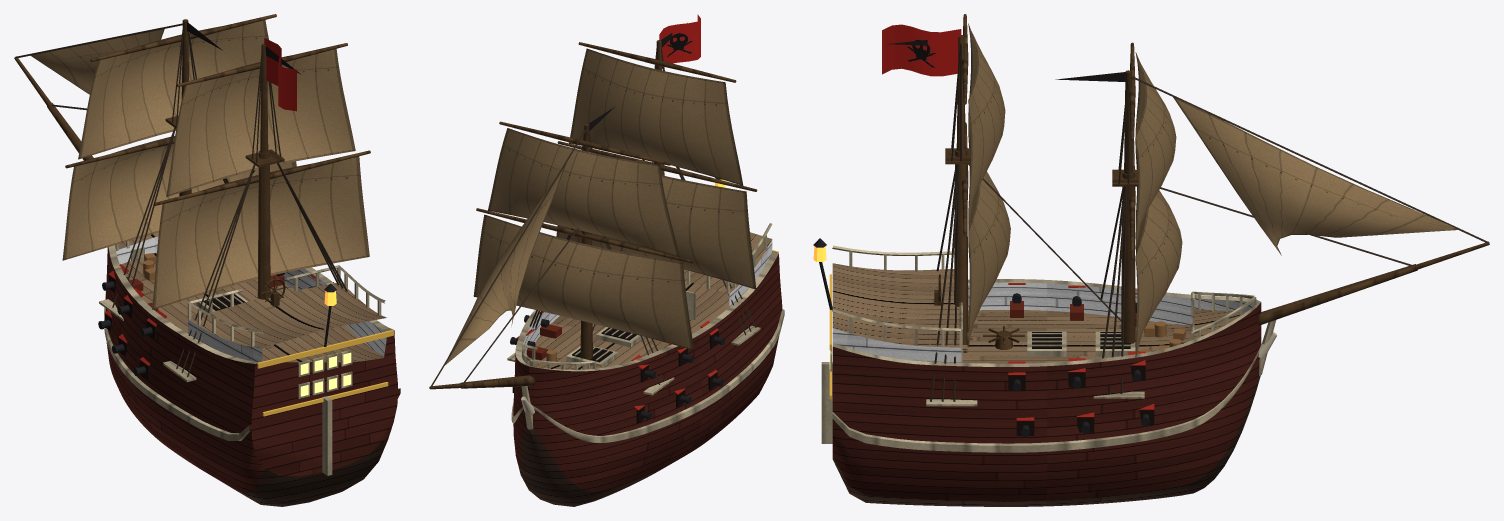
The model's file is brethren_galleon.glb.
The picture shows the model from 3 angles, left to right: view 1: azimuth 30°, elevation 25°; view 2: azimuth 150°, elevation 25°; view 3: azimuth 270°, elevation 25°; orthographic projection. The views are drawn at different scales.
Parts seen in each view (by area): view 1: Hull, Sail1_0, Sail1_1, Rigging, Sail0_1, Sail0_0, Jib, Flag, Guns0; view 2: Hull, Sail0_0, Sail1_1, Sail0_1, Sail1_0, Rigging, Jib, Flag, Guns0; view 3: Hull, Rigging, Jib, Sail0_0, Sail1_0, Sail0_1, Sail1_1, Flag, Guns0.
Part boxes in pixels (x1,y1,x2,y2): Hull: (99, 232, 400, 506); Sail1_0: (152, 156, 369, 309); Sail1_1: (166, 49, 355, 196); Rigging: (14, 14, 370, 376); Sail0_1: (78, 20, 268, 159); Sail0_0: (62, 135, 296, 260); Jib: (31, 29, 164, 94); Flag: (264, 38, 296, 111); Guns0: (98, 273, 333, 375); Hull: (507, 177, 784, 506); Sail0_0: (473, 214, 693, 350); Sail1_1: (569, 48, 743, 185); Sail0_1: (488, 128, 679, 257); Sail1_0: (556, 175, 756, 289); Rigging: (429, 33, 757, 389); Jib: (445, 164, 565, 364); Flag: (659, 14, 700, 68); Guns0: (510, 315, 724, 419); Hull: (813, 238, 1277, 506); Rigging: (887, 14, 1489, 401); Jib: (1173, 97, 1458, 255); Sail0_0: (1135, 186, 1182, 359); Sail1_0: (968, 166, 1010, 346); Sail0_1: (1135, 52, 1176, 248); Sail1_1: (968, 23, 1005, 223); Flag: (882, 24, 961, 76); Guns0: (1010, 293, 1150, 437).
Size of the model in its own units: 1.47 by 2.54 by 3.39.
20 materials, 8 textured.
